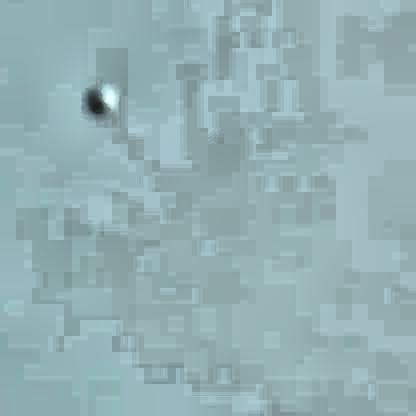golfball: (84, 77, 114, 113)
